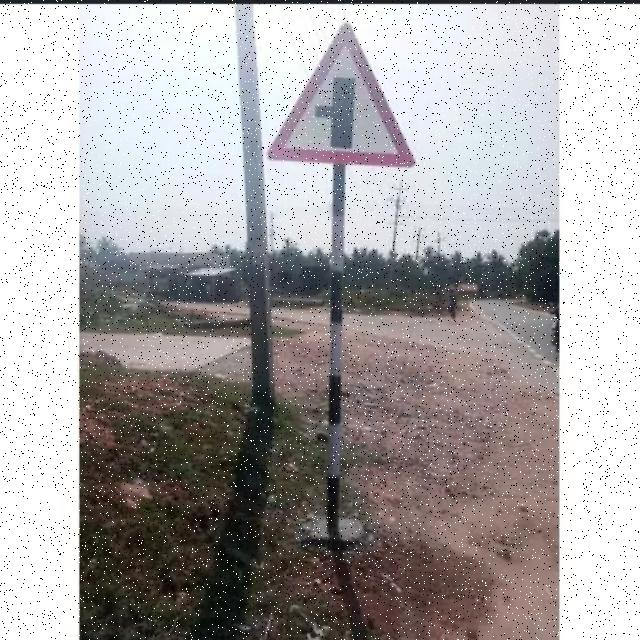Sideroad_toleft: (267, 26, 420, 162)
